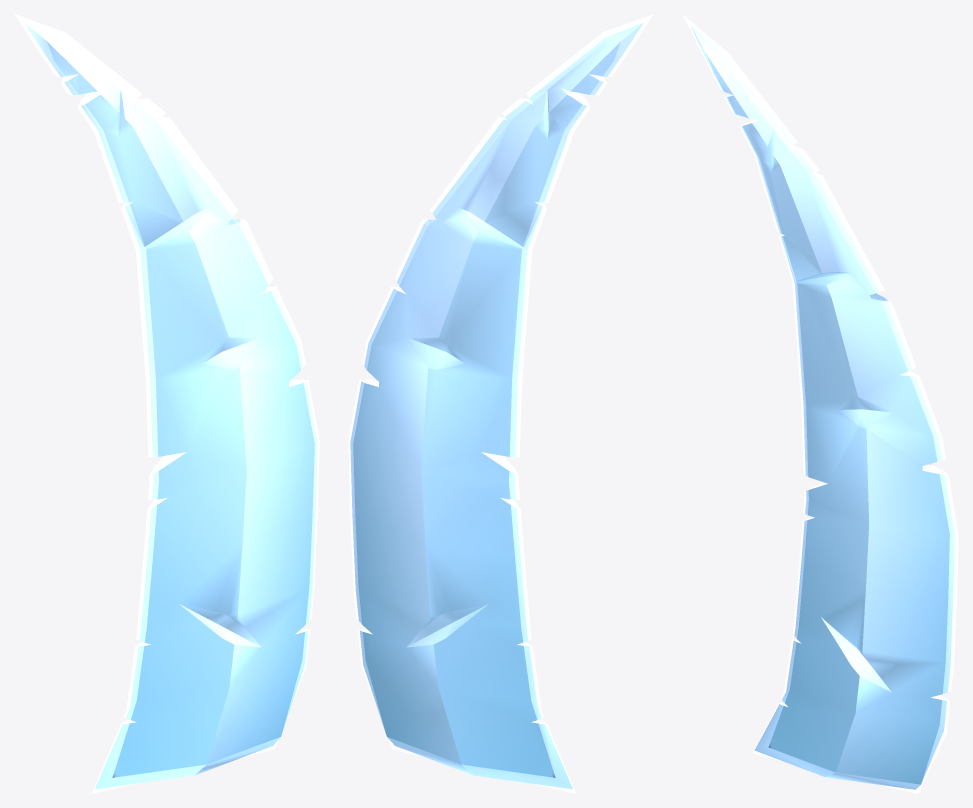
File: steel_blade_scratched_052.glb
3 views of the same model, side by side, from view 1: azimuth 30°, elevation 25°; view 2: azimuth 150°, elevation 25°; view 3: azimuth 330°, elevation 25° (orthographic). The views are drawn at different scales.
Parts seen in each view (by area): view 1: steel_blade_scratched.052; view 2: steel_blade_scratched.052; view 3: steel_blade_scratched.052.
Boxes of the visible parts, <box> form: steel_blade_scratched.052: <box>14,14,319,793</box>; steel_blade_scratched.052: <box>348,14,653,793</box>; steel_blade_scratched.052: <box>682,14,958,793</box>.
Size of the model in its own units: 4.91 by 12.29 by 0.7262.
1 material, 1 textured.
